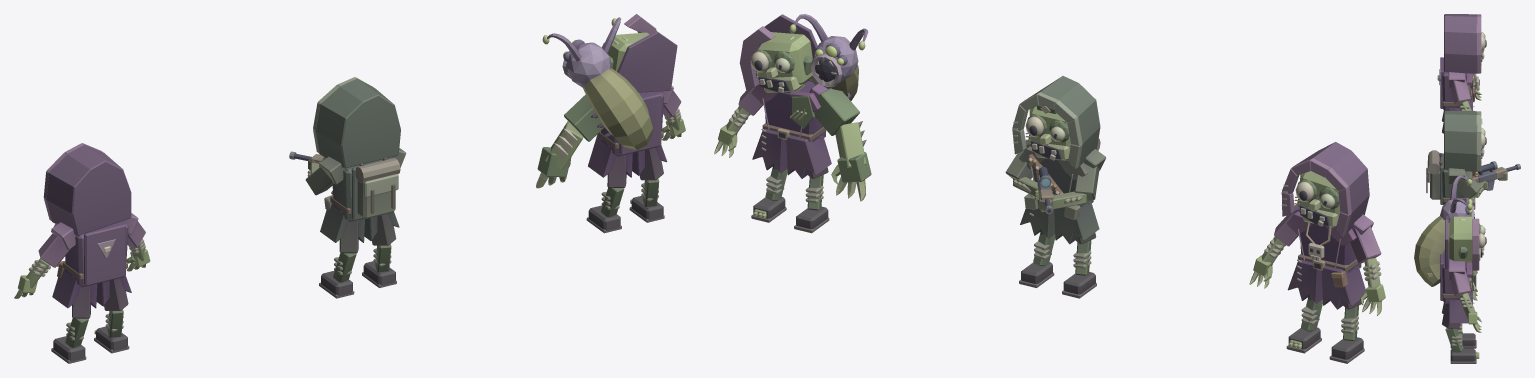
Rendered from GrowAZombie_Cultists.glb.
3 views of the same model, side by side, from view 1: azimuth 30°, elevation 25°; view 2: azimuth 150°, elevation 25°; view 3: azimuth 270°, elevation 25° (orthographic). The views are drawn at different scales.
Parts seen in each view (by area): view 1: Cultist_Hunter__Head, Cultist_Normal__Head, Cultist_Hunter__Body, Cultist_Normal__Body, Cultist_Parasite__Head, Cultist_Parasite__ParasiteBody, Cultist_Parasite__ArmL, Cultist_Parasite__Body, Cultist_Normal__ArmL, Cultist_Parasite__LegL, Cultist_Hunter__LegL, Cultist_Normal__LegL (+7 smaller); view 2: Cultist_Hunter__Head, Cultist_Normal__Head, Cultist_Parasite__Body, Cultist_Normal__Body, Cultist_Parasite__Head, Cultist_Hunter__Body, Cultist_Parasite__ArmL, Cultist_Normal__ArmL, Cultist_Parasite__ParasiteHead, Cultist_Hunter__ArmL, Cultist_Normal__ArmR, Cultist_Hunter__LegL (+7 smaller); view 3: Cultist_Hunter__Head, Cultist_Normal__Head, Cultist_Parasite__Head, Cultist_Parasite__ParasiteBody, Cultist_Hunter__Body, Cultist_Parasite__Body, Cultist_Parasite__ArmR, Cultist_Parasite__LegR, Cultist_Normal__Body, Cultist_Normal__ArmR, Cultist_Hunter__ArmR, Cultist_Hunter__Rifle (+5 smaller).
Part boxes in pixels (<box>): Cultist_Hunter__Head: <box>313,77,400,168</box>; Cultist_Normal__Head: <box>43,143,131,235</box>; Cultist_Hunter__Body: <box>319,157,400,242</box>; Cultist_Normal__Body: <box>51,222,131,308</box>; Cultist_Parasite__Head: <box>602,14,677,92</box>; Cultist_Parasite__ParasiteBody: <box>583,68,652,150</box>; Cultist_Parasite__ArmL: <box>536,94,604,188</box>; Cultist_Parasite__Body: <box>588,91,667,177</box>; Cultist_Normal__ArmL: <box>14,222,75,298</box>; Cultist_Parasite__LegL: <box>586,145,626,233</box>; Cultist_Hunter__LegL: <box>319,210,358,298</box>; Cultist_Normal__LegL: <box>51,276,90,363</box>; Cultist_Hunter__Head: <box>1012,76,1100,168</box>; Cultist_Normal__Head: <box>1281,142,1369,236</box>; Cultist_Parasite__Body: <box>751,79,831,178</box>; Cultist_Normal__Body: <box>1286,211,1365,309</box>; Cultist_Parasite__Head: <box>739,14,817,92</box>; Cultist_Hunter__Body: <box>1019,138,1100,244</box>; Cultist_Parasite__ArmL: <box>809,83,871,201</box>; Cultist_Normal__ArmL: <box>1350,214,1385,315</box>; Cultist_Parasite__ParasiteHead: <box>810,36,858,86</box>; Cultist_Hunter__ArmL: <box>1038,149,1105,212</box>; Cultist_Normal__ArmR: <box>1249,204,1299,288</box>; Cultist_Hunter__LegL: <box>1062,201,1096,298</box>; Cultist_Hunter__Head: <box>1444,111,1486,171</box>; Cultist_Normal__Head: <box>1444,14,1486,73</box>; Cultist_Parasite__Head: <box>1445,215,1486,270</box>; Cultist_Parasite__ParasiteBody: <box>1414,216,1449,286</box>; Cultist_Hunter__Body: <box>1426,150,1477,209</box>; Cultist_Parasite__Body: <box>1440,252,1474,323</box>; Cultist_Parasite__ArmR: <box>1448,260,1481,332</box>; Cultist_Parasite__LegR: <box>1442,299,1479,363</box>; Cultist_Normal__Body: <box>1437,57,1479,110</box>; Cultist_Normal__ArmR: <box>1448,72,1471,110</box>; Cultist_Hunter__ArmR: <box>1448,168,1487,198</box>; Cultist_Hunter__Rifle: <box>1473,161,1520,190</box>.
Size of the model in its own units: 19.88 by 5.88 by 3.76.
